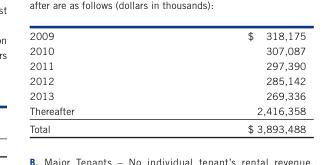table: (28, 29, 305, 134)
table column: (160, 29, 305, 134), (28, 29, 160, 134)
table row: (28, 72, 305, 88), (28, 103, 305, 119), (28, 42, 305, 57), (28, 57, 305, 72), (28, 88, 305, 103), (28, 119, 305, 134), (28, 29, 305, 42)
